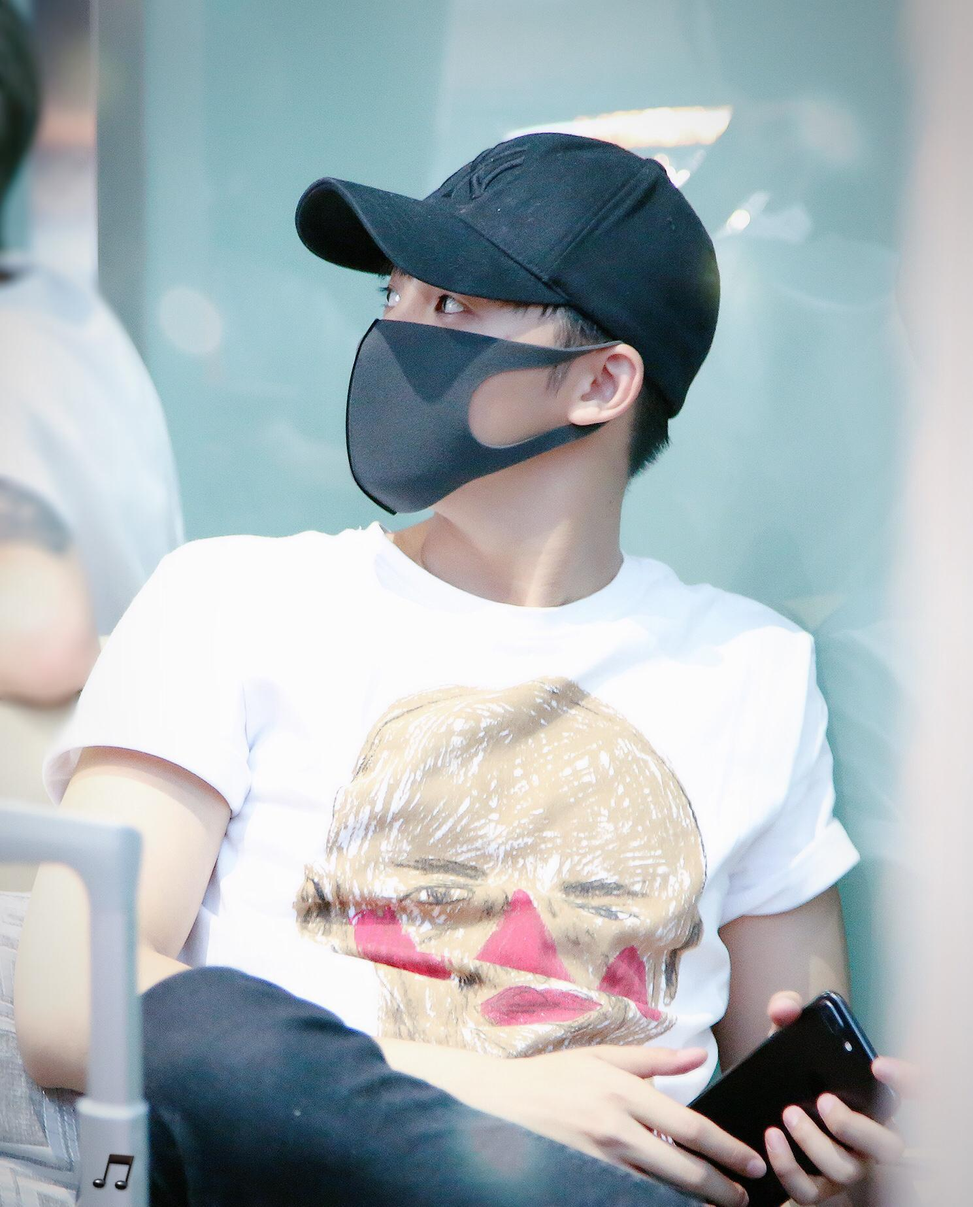OK: (333, 249, 604, 521)
